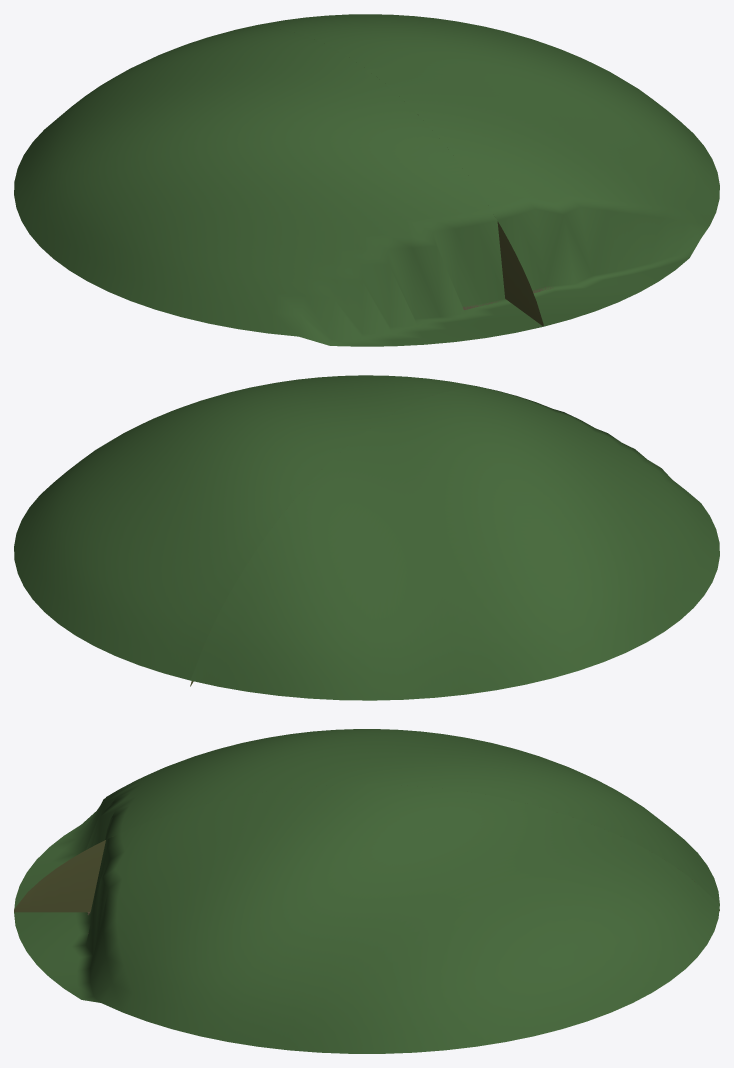
The model's file is maeshowe.glb.
3 renders of one model, top to bottom at view 1: azimuth 30°, elevation 25°; view 2: azimuth 150°, elevation 25°; view 3: azimuth 270°, elevation 25°, orthographic.
Visible parts, largest first — view 1: maeshowe_mound_west, maeshowe_mound_east; view 2: maeshowe_mound_west, maeshowe_mound_east; view 3: maeshowe_mound_east, maeshowe_mound_west.
Part boxes in pixels (left/top/right/bottom): maeshowe_mound_west: left=14, top=27, right=543, bottom=346; maeshowe_mound_east: left=241, top=14, right=719, bottom=326; maeshowe_mound_west: left=190, top=388, right=719, bottom=700; maeshowe_mound_east: left=14, top=375, right=493, bottom=682; maeshowe_mound_east: left=14, top=784, right=719, bottom=1053; maeshowe_mound_west: left=14, top=729, right=719, bottom=912.
Size of the model in its own units: 34.96 by 7.15 by 35.
